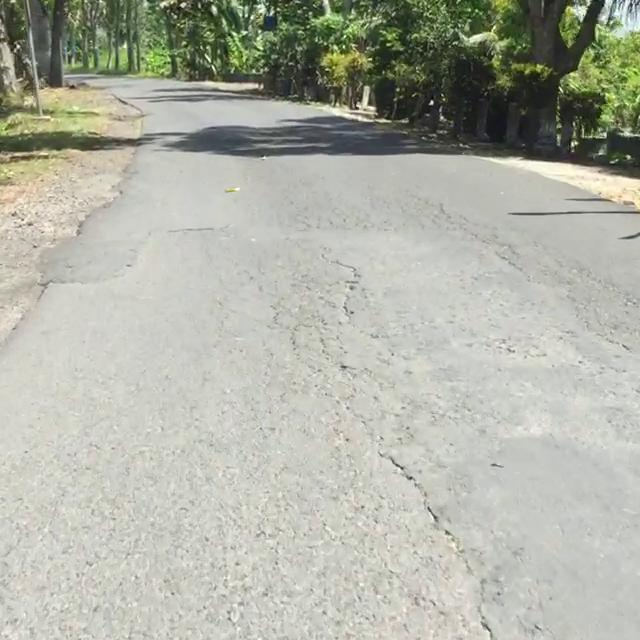retak_kulit_buaya: (355, 421, 518, 640), (249, 243, 376, 369)
